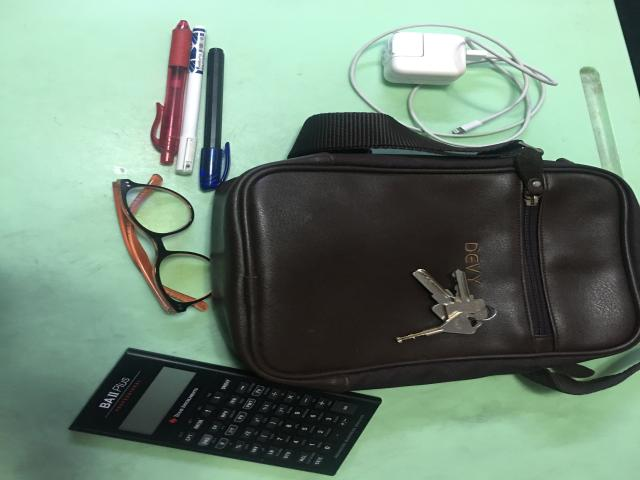Glasses: (113, 175, 210, 313)
Keys: (397, 269, 497, 342)
Pen: (152, 23, 225, 196)
wire: (348, 23, 558, 146)
